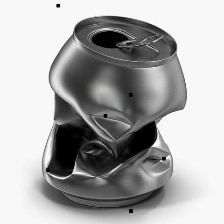can: (35, 12, 189, 210)
